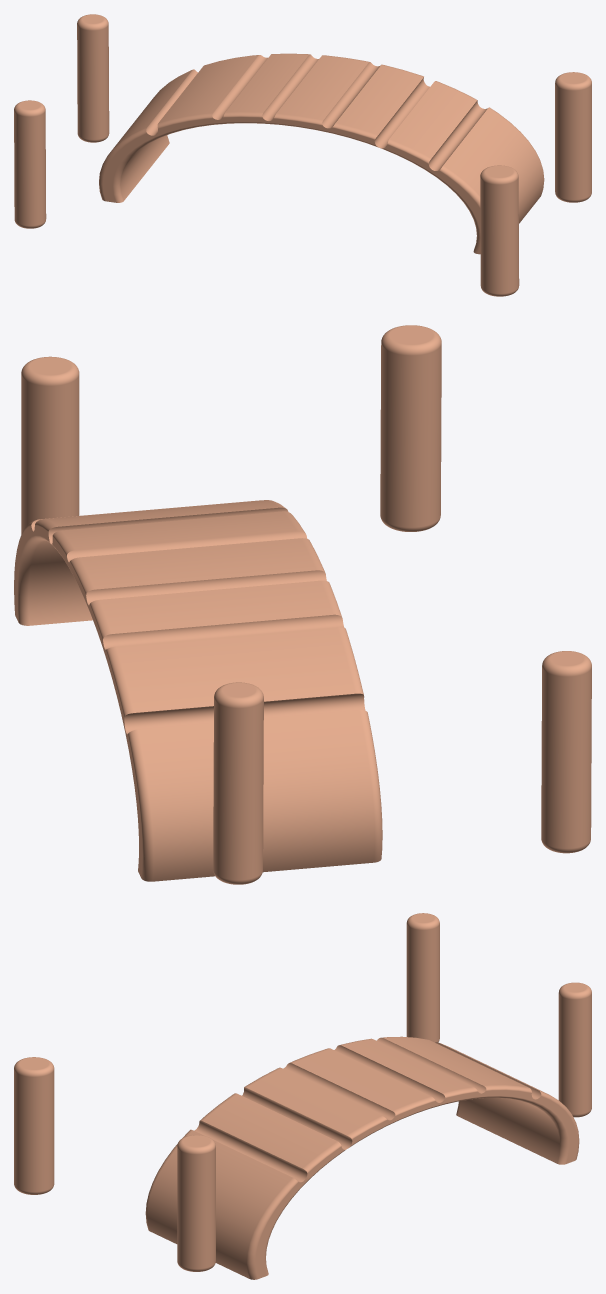
The model's file is Bridge.fbx.
3 views of the same model, one above another, from view 1: azimuth 30°, elevation 25°; view 2: azimuth 150°, elevation 25°; view 3: azimuth 270°, elevation 25° (orthographic). The views are drawn at different scales.
Visible parts, largest first — view 1: Bridge, Cylinder 7, Cylinder 6, Cylinder 9, Cylinder 8; view 2: Bridge, Cylinder 7, Cylinder 9, Cylinder 8, Cylinder 6; view 3: Bridge, Cylinder 7, Cylinder 6, Cylinder 9, Cylinder 8.
Part boxes in pixels (box(x1,y1,x2,y2)): Bridge: box(99, 53, 544, 254); Cylinder 7: box(480, 165, 519, 296); Cylinder 6: box(555, 72, 591, 202); Cylinder 9: box(77, 14, 109, 142); Cylinder 8: box(14, 100, 46, 228); Bridge: box(14, 500, 382, 881); Cylinder 7: box(380, 325, 441, 531); Cylinder 9: box(213, 682, 263, 884); Cylinder 8: box(541, 651, 591, 853); Cylinder 6: box(21, 356, 79, 534); Bridge: box(145, 1036, 579, 1279); Cylinder 7: box(14, 1057, 54, 1194); Cylinder 6: box(177, 1135, 215, 1271); Cylinder 9: box(558, 982, 591, 1117); Cylinder 8: box(406, 913, 439, 1042).
Bounding box in the file's own units: 27.9 × 7.73 × 28.6.
